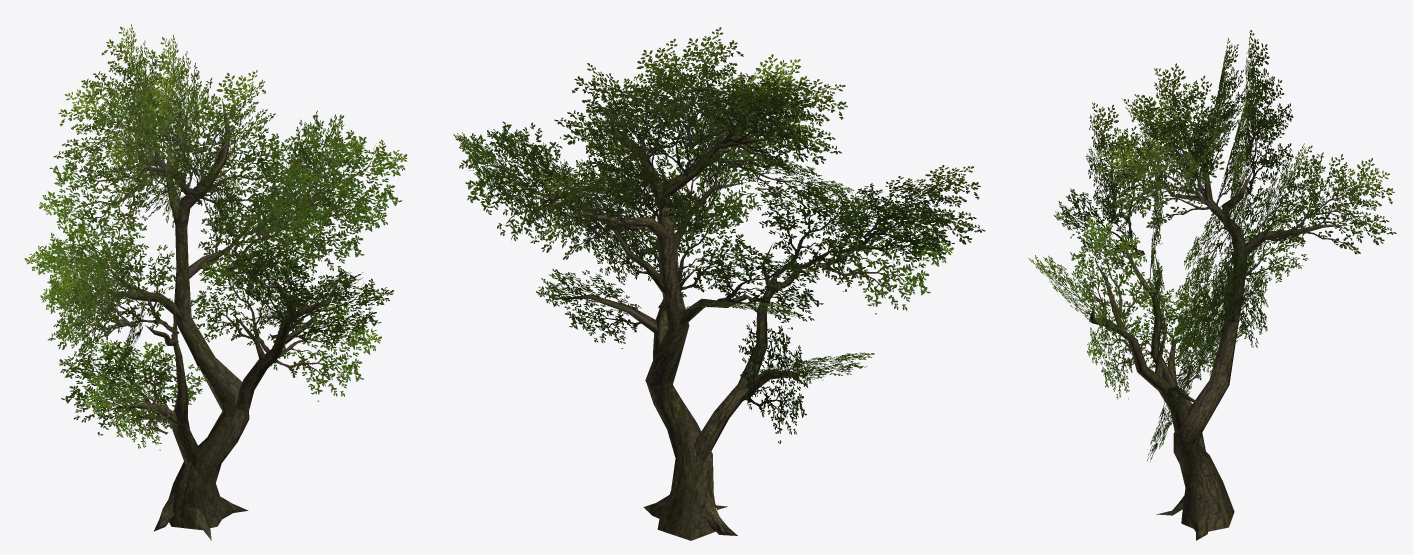
Rendered from zc_jiangxia_dashu01.FBX.
3 renders of one model, left to right at view 1: azimuth 30°, elevation 25°; view 2: azimuth 150°, elevation 25°; view 3: azimuth 270°, elevation 25°, orthographic. The views are drawn at different scales.
Parts seen in each view (by area): view 1: zc_jiangxia_dashu01; view 2: zc_jiangxia_dashu01; view 3: zc_jiangxia_dashu01.
Boxes of the visible parts, <box> form: zc_jiangxia_dashu01: <box>24,24,407,540</box>; zc_jiangxia_dashu01: <box>453,27,985,540</box>; zc_jiangxia_dashu01: <box>1028,30,1396,540</box>.
Bounding box in the file's own units: 9.64 × 10.72 × 7.69.
